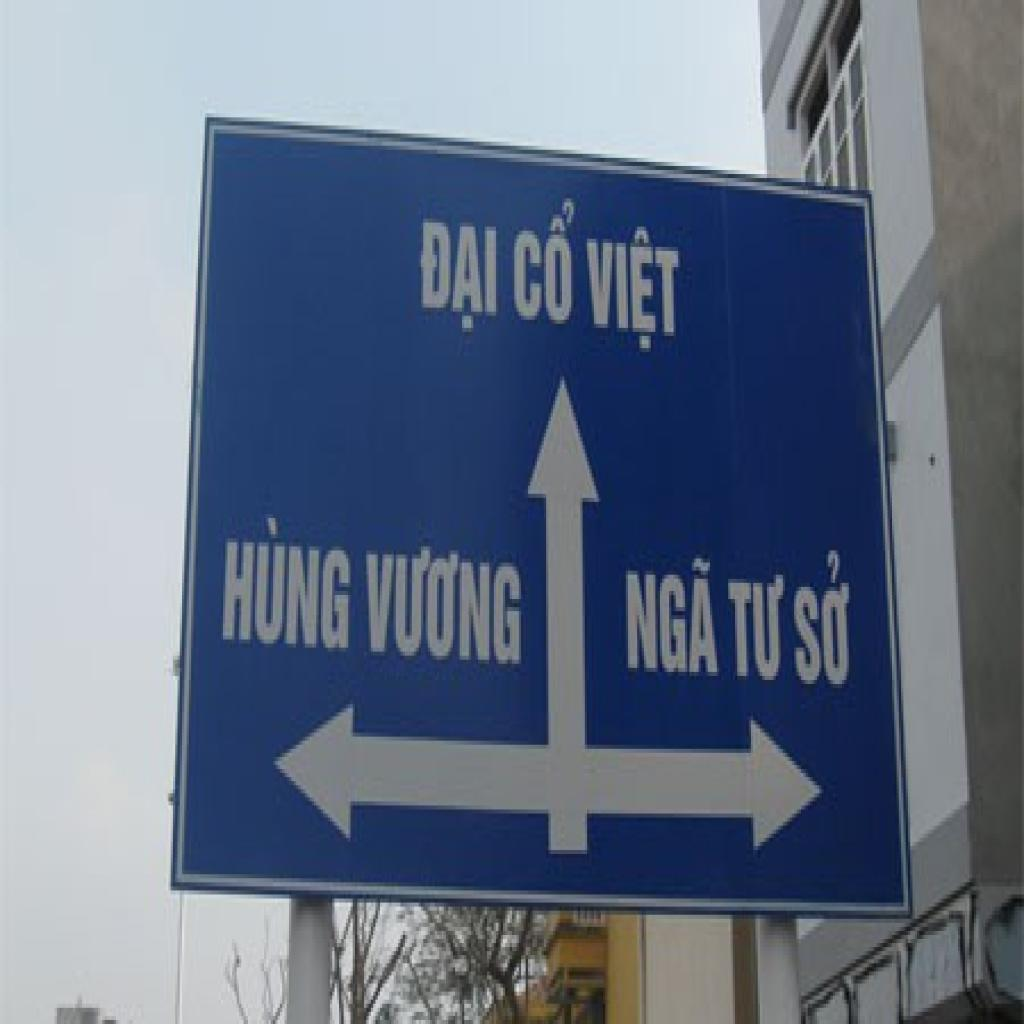text: (364, 538, 526, 676), (221, 514, 355, 656), (585, 219, 685, 360), (623, 550, 726, 676), (419, 214, 503, 340), (512, 190, 580, 328), (726, 567, 790, 688)
